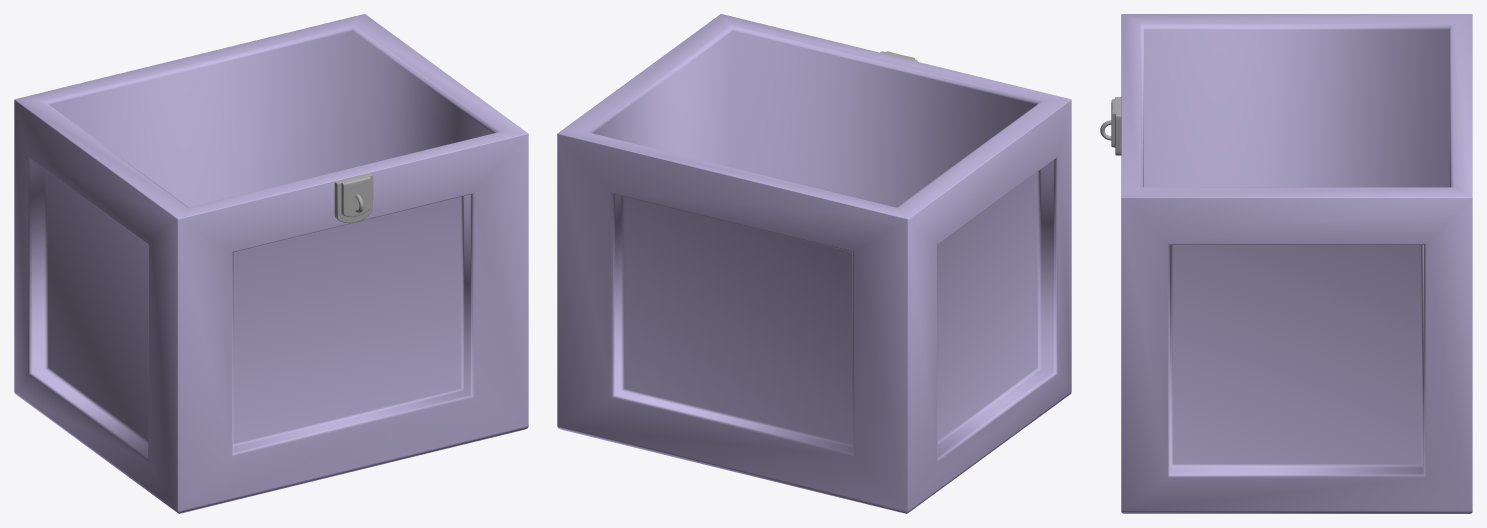
File: toybox_bt.fbx
3 views of the same model, side by side, from view 1: azimuth 30°, elevation 25°; view 2: azimuth 150°, elevation 25°; view 3: azimuth 270°, elevation 25° (orthographic). The views are drawn at different scales.
Parts seen in each view (by area): view 1: Cube, Torus; view 2: Cube; view 3: Cube, Torus.
Part boxes in pixels (<box>): Cube: <box>14,14,528,513</box>; Torus: <box>334,173,373,223</box>; Cube: <box>557,14,1071,513</box>; Cube: <box>1121,14,1472,513</box>; Torus: <box>1100,97,1121,155</box>.
Bounding box in the file's own units: 953 × 739 × 783.
